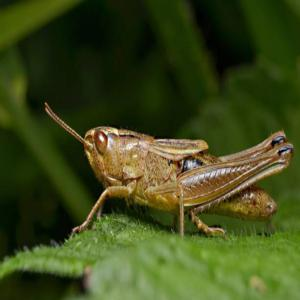locust: (49, 108, 300, 228)
